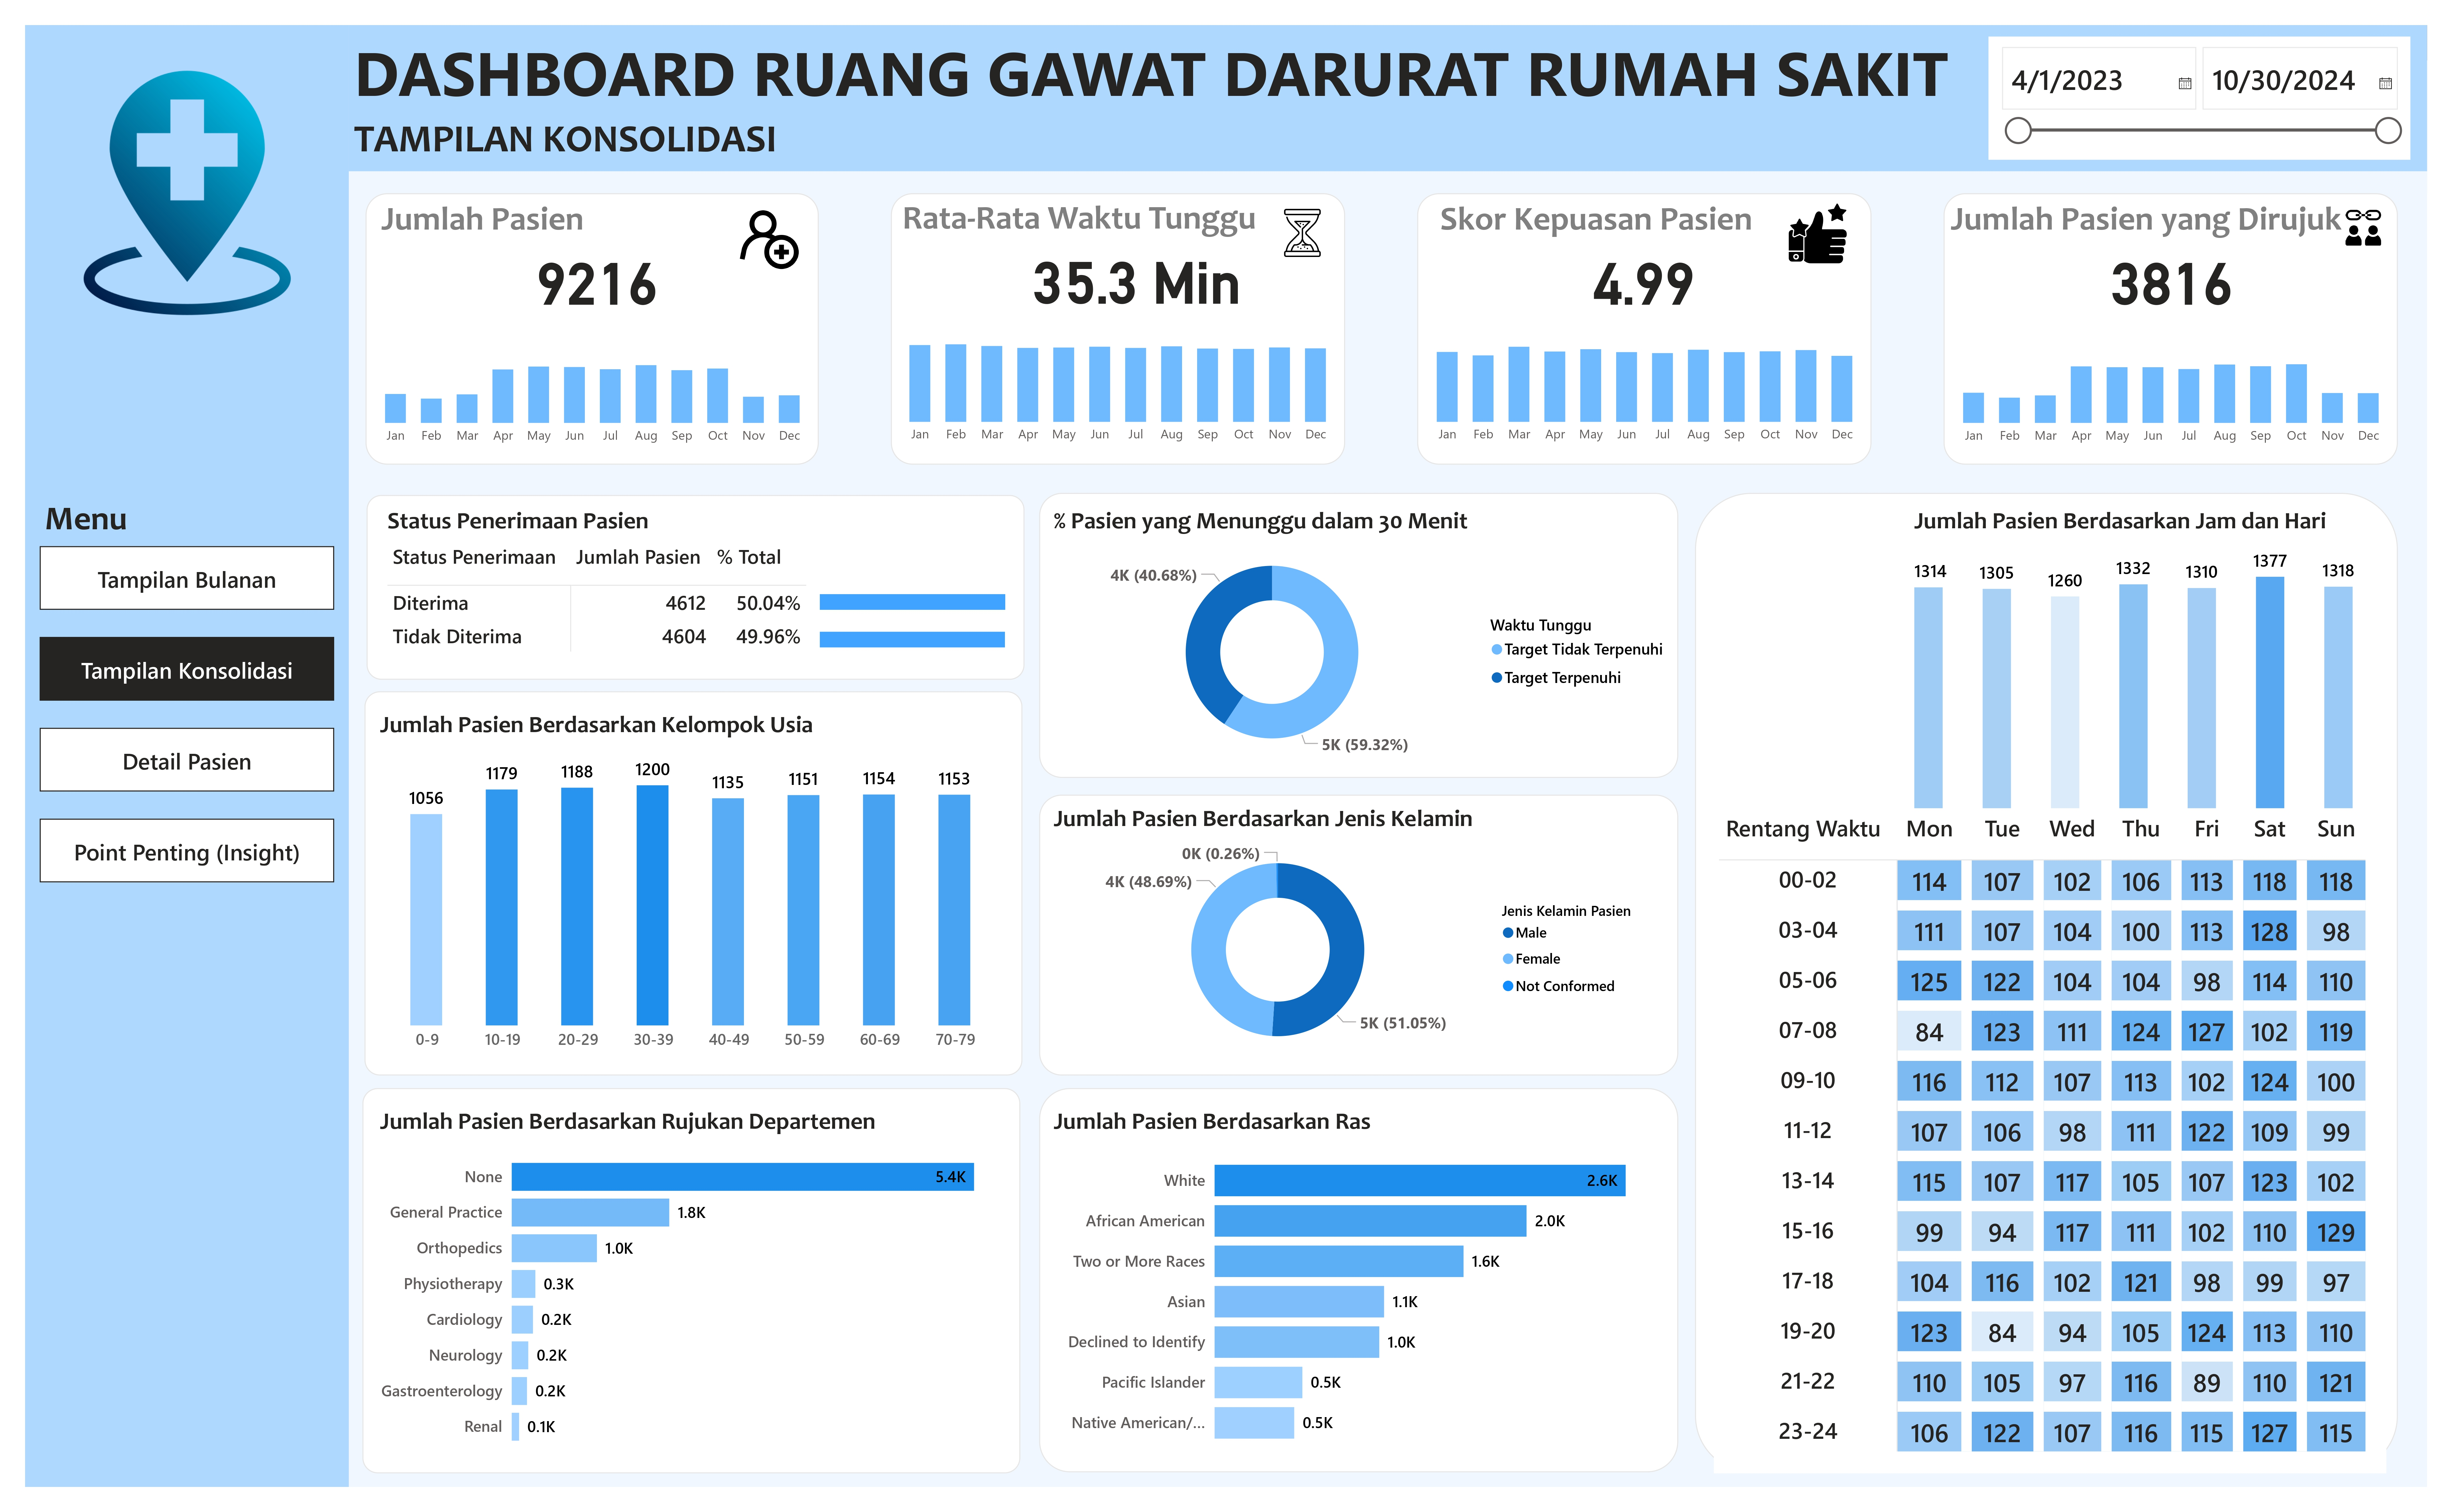

This screenshot's page, from the dashboard's own definition file:
{"tool":"powerbi","page":{"name":"Tampilan Konsolidasi","canvas":[2300,1400],"ordinal":1},"visuals":[{"type":"shape","box":[325.6,161.1,434.4,260],"z":0},{"type":"shape","box":[0,0,310,1400],"z":1000},{"type":"shape","box":[310,0,1990,140],"z":2000},{"type":"textbox","box":[310,0,1625,92.5],"z":3000},{"type":"card","fields":{"Values":["Hospital ER_Data.Jumlah Pasien"]},"box":[464.4,208.9,166.7,64.4],"z":4000},{"type":"textbox","box":[310,80,467.5,60],"z":5000},{"type":"slicer","fields":{"Values":["Date Table.Date"]},"box":[1880,11.4,404.3,117.1],"z":6000},{"type":"textbox","box":[335.6,161.1,226.7,57.8],"z":8000},{"type":"columnChart","fields":{"Category":["Date Table.Month"],"Y":["Hospital ER_Data.Jumlah Pasien"]},"box":[325.6,286.2,435.6,125],"z":9000},{"type":"shape","box":[829.1,161.1,434.4,260],"z":10000},{"type":"card","fields":{"Values":["Hospital ER_Data.Rata-Rata Waktu Tunggu"]},"box":[925.7,207.1,277.1,65.7],"z":11000},{"type":"textbox","box":[834.5,160,400,58.2],"z":12000},{"type":"columnChart","fields":{"Category":["Date Table.Month"],"Y":["Hospital ER_Data.Rata - Rata Waktu Tunggu"]},"box":[828.2,284.7,436.4,125],"z":13000},{"type":"shape","box":[1836.7,161.1,435,260],"z":14000},{"type":"shape","box":[1332.6,161.1,435,260],"z":15000},{"type":"card","fields":{"Values":["Hospital ER_Data.Skor Kepuasan Pasien"]},"box":[1466.4,209.1,167.3,63.6],"z":16000},{"type":"textbox","box":[1350,160.9,400,58.2],"z":17000},{"type":"columnChart","fields":{"Category":["Date Table.Month"],"Y":["Hospital ER_Data.Skor Kepuasan Pasien"]},"box":[1332.7,284.7,436.4,125],"z":18000},{"type":"textbox","box":[1838.6,161.4,400,57.1],"z":19000},{"type":"columnChart","fields":{"Category":["Date Table.Month"],"Y":["Hospital ER_Data.Jumlah Pasien yang Dirujuk"]},"box":[1837.1,285.7,435.7,125],"z":21000},{"type":"card","fields":{"Values":["Hospital ER_Data.Jumlah Pasien yang Dirujuk"]},"box":[1971.4,208.6,168.6,64.3],"z":22000},{"type":"shape","box":[326.7,450,630,177],"z":23000},{"type":"pivotTable","title":"Status Penerimaan Pasien","fields":{"Rows":["Hospital ER_Data.Status Penerimaan"],"Values":["Hospital ER_Data.Jumlah Pasien","Divide(Hospital ER_Data.Jumlah Pasien, ScopedEval(Hospital ER_Data.Jumlah Pasien, []))"]},"box":[342.2,460,598.9,153.3],"z":24000},{"type":"barChart","fields":{"Category":["Hospital ER_Data.Status Penerimaan"],"Y":["Hospital ER_Data.Jumlah Pasien"]},"box":[756.4,513.6,240.9,108.2],"z":25000},{"type":"shape","box":[325.5,638.2,630,368],"z":26000},{"type":"clusteredColumnChart","title":"Jumlah Pasien Berdasarkan Kelompok Usia","fields":{"Category":["Hospital ER_Data.Kelompok Umur"],"Y":["Hospital ER_Data.Jumlah Pasien"]},"box":[335.5,654.5,605.5,337.3],"z":27000},{"type":"shape","box":[323.3,1018.3,630,368.3],"z":28000},{"type":"barChart","title":"Jumlah Pasien Berdasarkan Rujukan Departemen","fields":{"Category":["Hospital ER_Data.Department Referral"],"Y":["Hospital ER_Data.Jumlah Pasien"]},"box":[335,1035,605,340],"z":29000},{"type":"shape","box":[971,448,612,273],"z":30000},{"type":"shape","box":[971,737,612,269],"z":31000},{"type":"donutChart","title":"% Pasien yang Menunggu dalam 30 Menit","fields":{"Category":["Hospital ER_Data.Waktu Tunggu"],"Y":["Hospital ER_Data.Jumlah Pasien"]},"box":[980,460,603,253],"z":32000},{"type":"donutChart","title":"Jumlah Pasien Berdasarkan Jenis Kelamin","fields":{"Y":["Hospital ER_Data.Jumlah Pasien"],"Category":["Hospital ER_Data.Patient Gender"]},"box":[980,745,585,253],"z":33000},{"type":"shape","box":[971,1018,612,368],"z":34000},{"type":"barChart","title":"Jumlah Pasien Berdasarkan Ras","fields":{"Y":["Hospital ER_Data.Jumlah Pasien"],"Category":["Hospital ER_Data.Patient Race"]},"box":[980,1035,585,340],"z":35000},{"type":"shape","box":[1599.1,448.2,672.7,938.2],"z":36000},{"type":"pivotTable","fields":{"Rows":["Hospital ER_Data.Rentang Waktu"],"Columns":["Date Table.Day"],"Values":["Hospital ER_Data.Jumlah Pasien"]},"box":[1617.1,745.7,644.3,641.4],"z":37000},{"type":"columnChart","title":"Jumlah Pasien Berdasarkan Jam dan Hari","fields":{"Category":["Date Table.Day"],"Y":["Hospital ER_Data.Jumlah Pasien"]},"box":[1804.3,460,431.4,295.7],"z":38000},{"type":"image","box":[32.5,37.5,245,245],"z":39000},{"type":"image","box":[670,171.4,84.3,68.6],"z":40000},{"type":"image","box":[1190,171.4,65.7,55.7],"z":41000},{"type":"image","box":[1682.9,157.1,67.1,84.3],"z":42000},{"type":"image","box":[2217.1,168.6,44.3,50],"z":43000},{"type":"pageNavigator","box":[13.8,498.8,282.5,323.8],"z":43001},{"type":"textbox","box":[14,448,142,60],"z":43002}]}

Visuals, with their boxes in screenshot pixels (x1, y1, x2, y2):
shape: box=[365, 193, 819, 465]
shape: box=[25, 25, 349, 1487]
shape: box=[349, 25, 2427, 171]
textbox: box=[349, 25, 2046, 122]
card - Hospital ER_Data.Jumlah Pasien: box=[510, 243, 684, 310]
textbox: box=[349, 109, 837, 171]
slicer - Date Table.Date: box=[1988, 37, 2411, 159]
textbox: box=[376, 193, 612, 254]
columnChart - Date Table.Month x Hospital ER_Data.Jumlah Pasien: box=[365, 324, 820, 454]
shape: box=[891, 193, 1344, 465]
card - Hospital ER_Data.Rata-Rata Waktu Tunggu: box=[992, 241, 1281, 310]
textbox: box=[897, 192, 1314, 253]
columnChart - Date Table.Month x Hospital ER_Data.Rata - Rata Waktu Tunggu: box=[890, 322, 1346, 453]
shape: box=[1943, 193, 2398, 465]
shape: box=[1417, 193, 1871, 465]
card - Hospital ER_Data.Skor Kepuasan Pasien: box=[1556, 243, 1731, 310]
textbox: box=[1435, 193, 1852, 254]
columnChart - Date Table.Month x Hospital ER_Data.Skor Kepuasan Pasien: box=[1417, 322, 1873, 453]
textbox: box=[1945, 193, 2363, 253]
columnChart - Date Table.Month x Hospital ER_Data.Jumlah Pasien yang Dirujuk: box=[1944, 323, 2399, 454]
card - Hospital ER_Data.Jumlah Pasien yang Dirujuk: box=[2084, 243, 2260, 310]
shape: box=[366, 495, 1024, 680]
"Status Penerimaan Pasien" pivotTable: box=[382, 505, 1008, 666]
barChart - Hospital ER_Data.Status Penerimaan x Hospital ER_Data.Jumlah Pasien: box=[815, 561, 1066, 674]
shape: box=[365, 691, 1023, 1076]
"Jumlah Pasien Berdasarkan Kelompok Usia" clusteredColumnChart: box=[375, 708, 1008, 1061]
shape: box=[363, 1088, 1021, 1473]
"Jumlah Pasien Berdasarkan Rujukan Departemen" barChart: box=[375, 1106, 1007, 1461]
shape: box=[1039, 493, 1678, 778]
shape: box=[1039, 795, 1678, 1076]
"% Pasien yang Menunggu dalam 30 Menit" donutChart: box=[1048, 505, 1678, 770]
"Jumlah Pasien Berdasarkan Jenis Kelamin" donutChart: box=[1048, 803, 1659, 1067]
shape: box=[1039, 1088, 1678, 1472]
"Jumlah Pasien Berdasarkan Ras" barChart: box=[1048, 1106, 1659, 1461]
shape: box=[1695, 493, 2398, 1473]
pivotTable - Hospital ER_Data.Rentang Waktu x Date Table.Day: box=[1714, 804, 2386, 1474]
"Jumlah Pasien Berdasarkan Jam dan Hari" columnChart: box=[1909, 505, 2360, 814]
image: box=[59, 64, 315, 320]
image: box=[725, 204, 813, 276]
image: box=[1268, 204, 1336, 262]
image: box=[1783, 189, 1852, 277]
image: box=[2340, 201, 2386, 253]
pageNavigator: box=[39, 546, 335, 884]
textbox: box=[40, 493, 188, 555]
